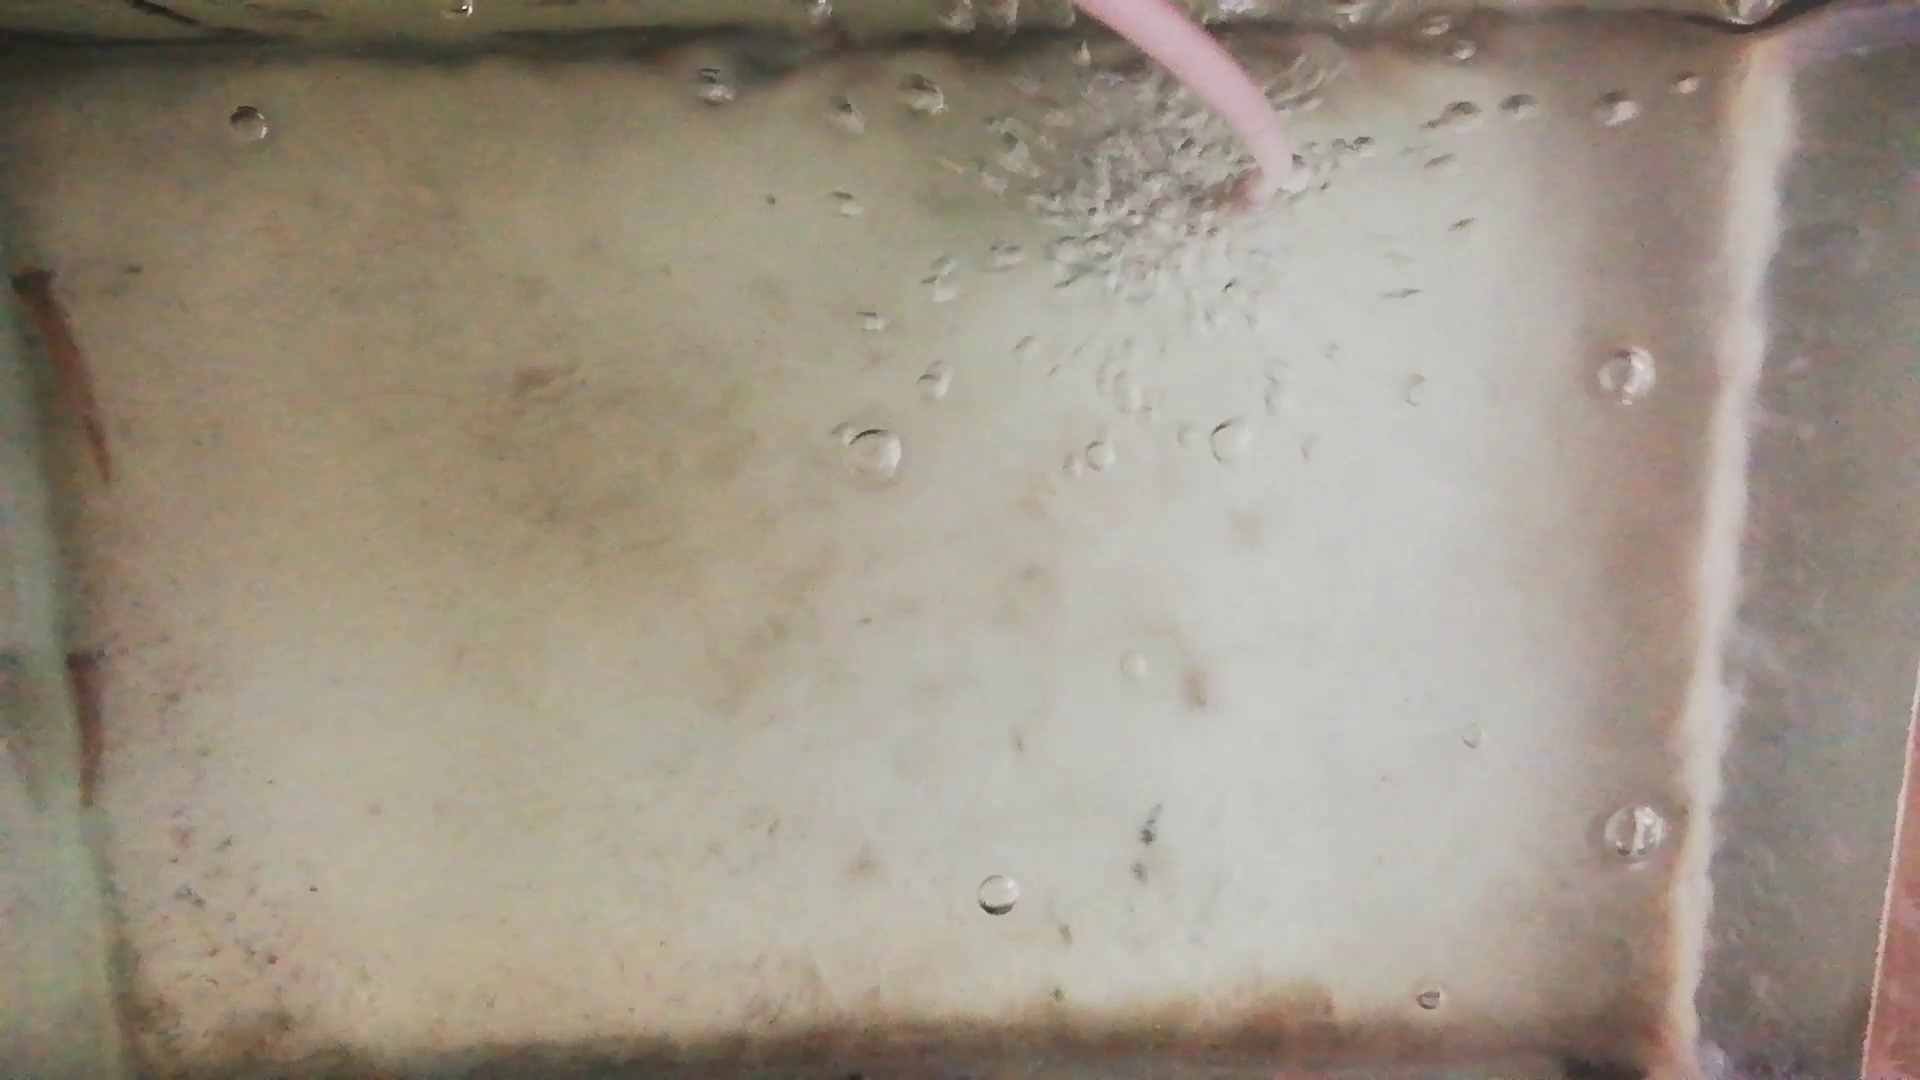fish: (13, 262, 113, 483), (62, 644, 105, 812)
